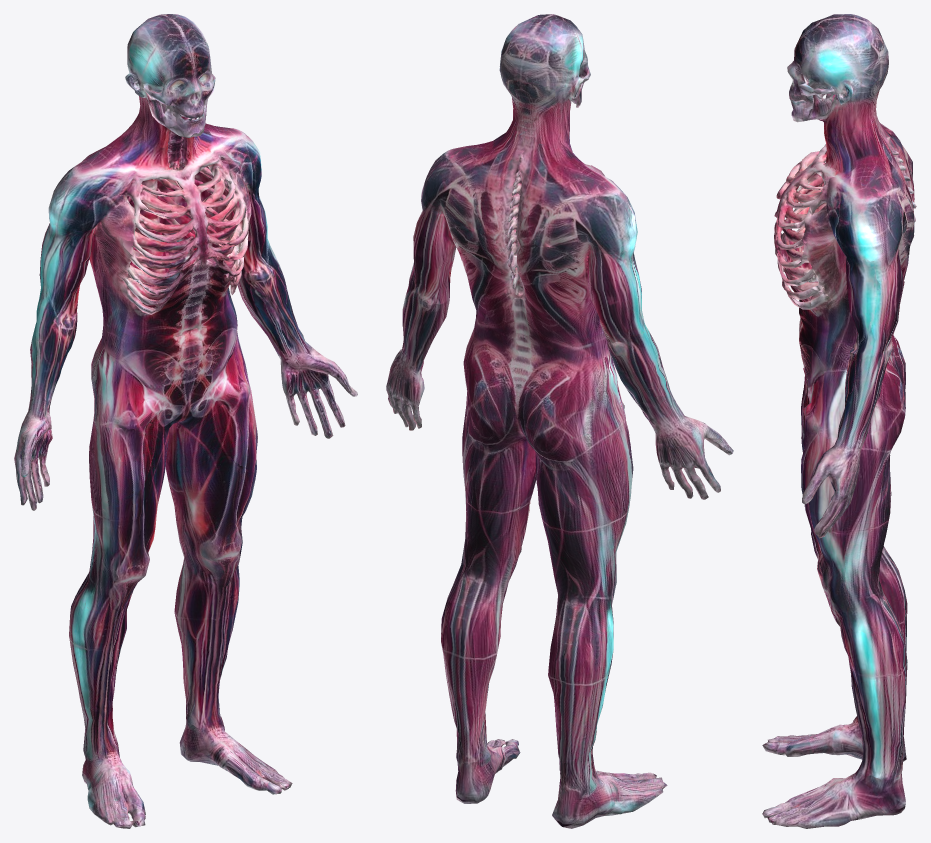
Rendered from xray.glb.
3 views of the same model, side by side, from view 1: azimuth 30°, elevation 25°; view 2: azimuth 150°, elevation 25°; view 3: azimuth 270°, elevation 25° (orthographic).
Parts seen in each view (by area): view 1: xray; view 2: xray; view 3: xray.
Part boxes in pixels (x1=…): xray: x1=14, y1=14, x2=357, y2=828; xray: x1=386, y1=14, x2=733, y2=828; xray: x1=762, y1=14, x2=916, y2=828.
Size of the model in its own units: 0.8654 by 1.9 by 0.3442.
1 material, 1 textured.
